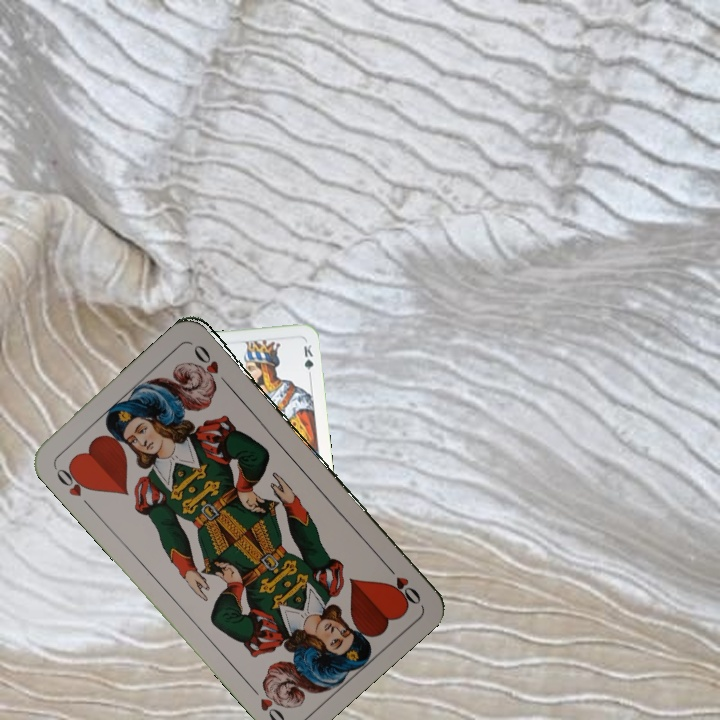HO: (50, 460, 95, 511), (380, 558, 424, 608)
